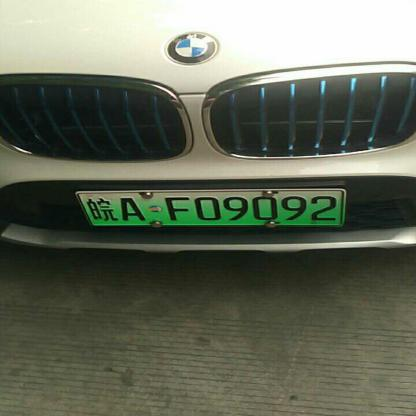lp: (76, 190, 343, 226)
